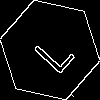L: (25, 25, 76, 76)
